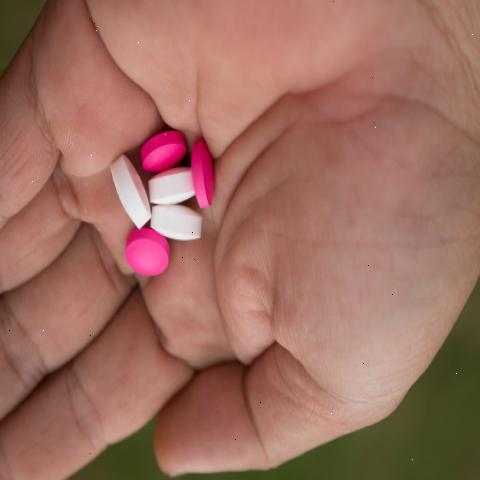Pill: (107, 152, 151, 233), (155, 204, 207, 238)
